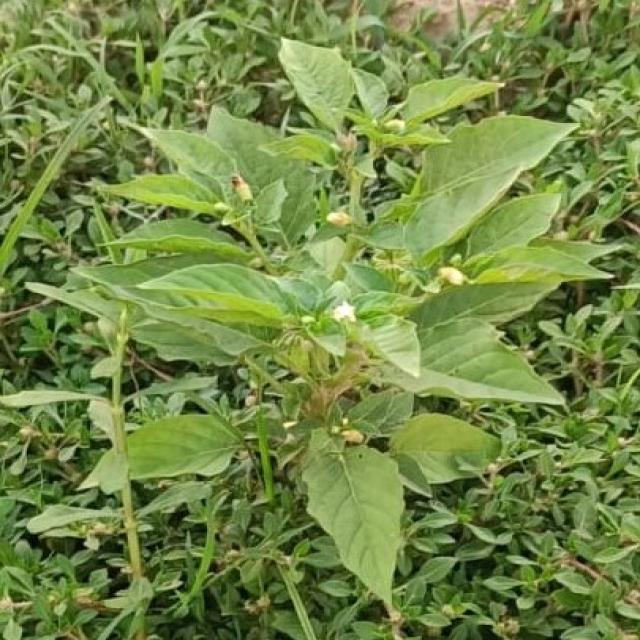weed: (27, 39, 610, 620)
